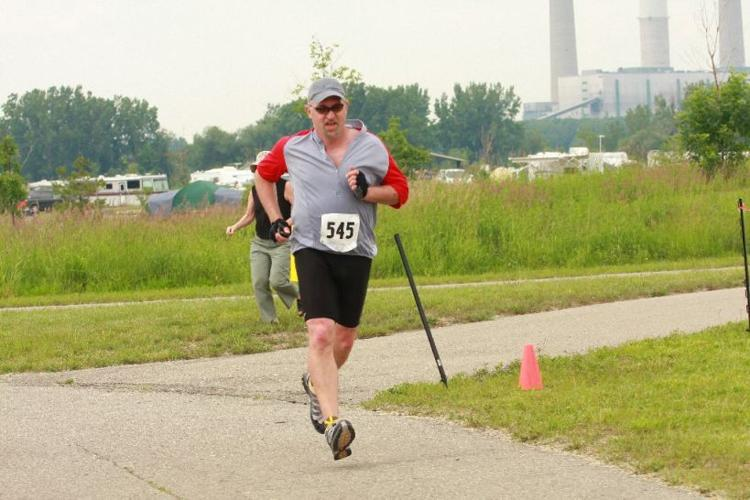person: (254, 81, 413, 461)
